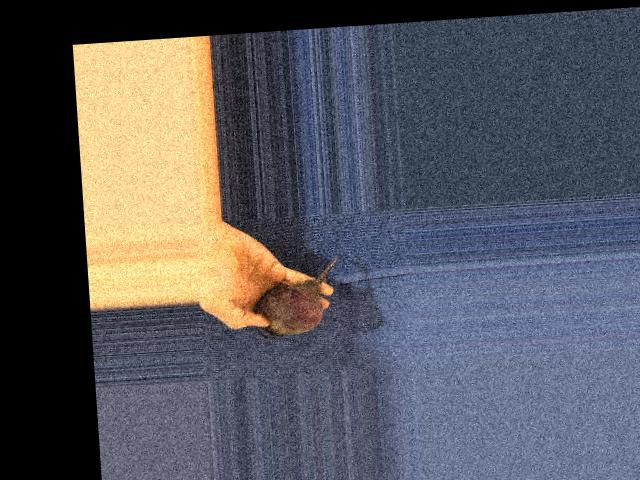beet: (251, 255, 343, 340)
